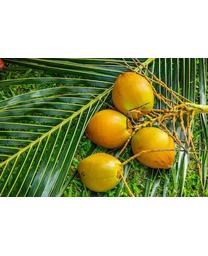coconut: (107, 70, 158, 119), (128, 127, 176, 171), (77, 153, 125, 191), (85, 110, 134, 145)
